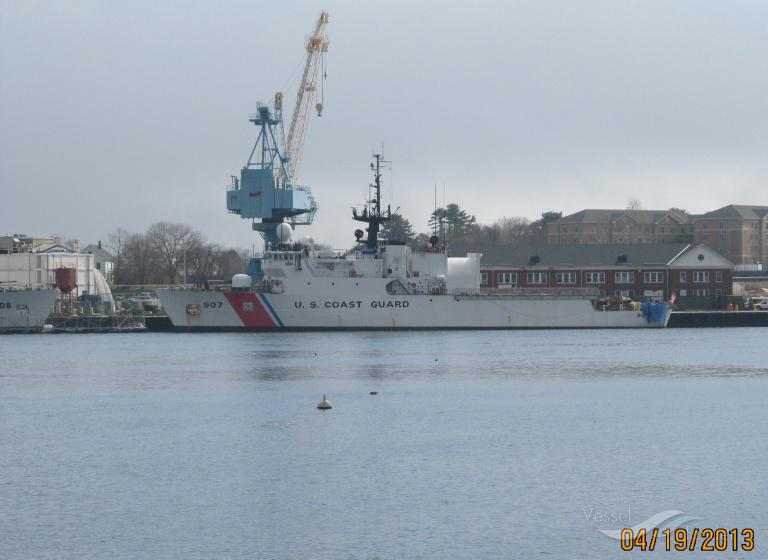OCR: (288, 297, 412, 316), (200, 297, 224, 312)
